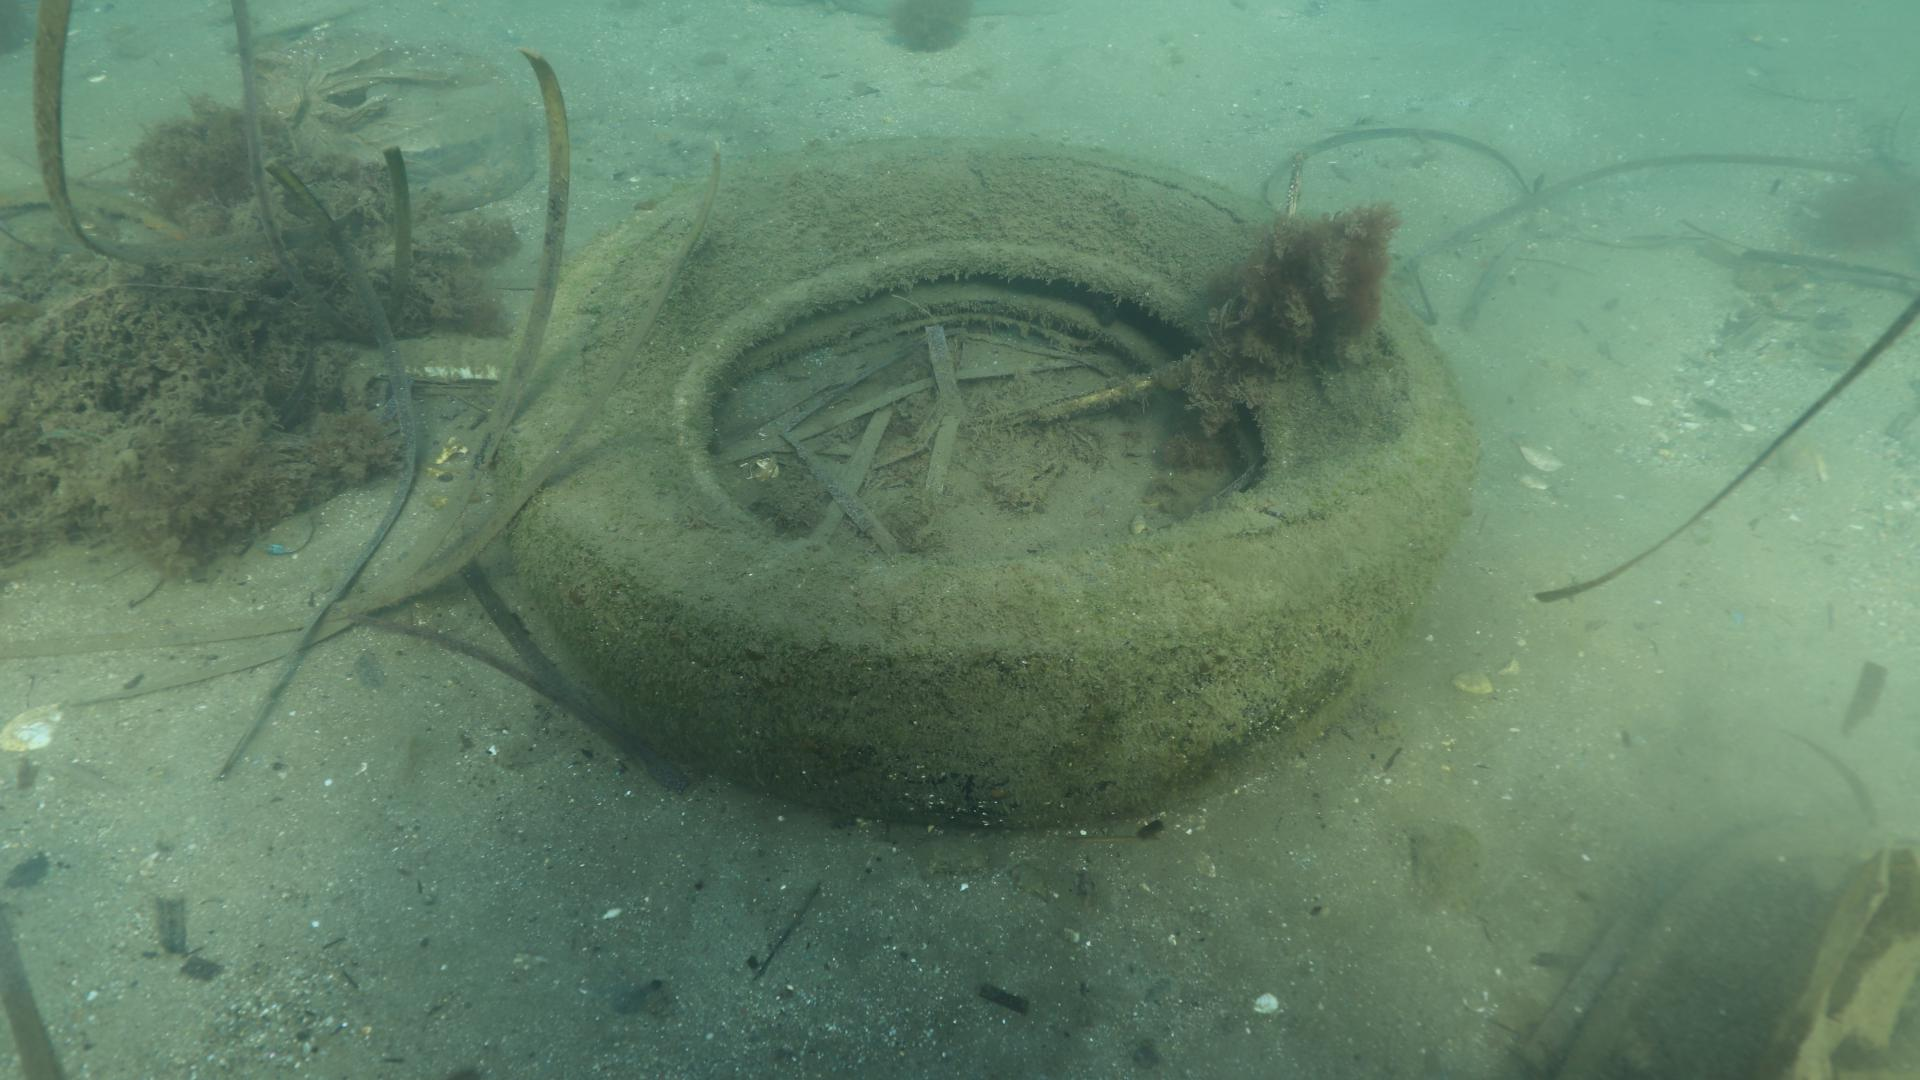tire: (491, 135, 1473, 833)
